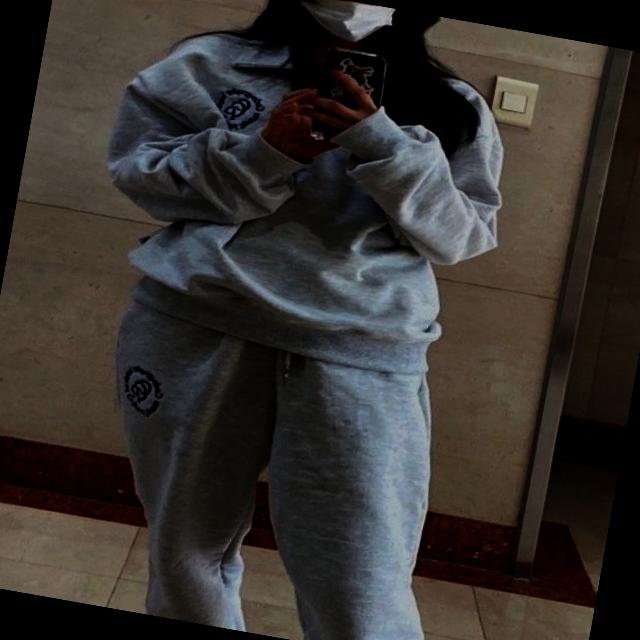mtm: (77, 0, 527, 381)
trainingpants: (65, 279, 523, 640)
